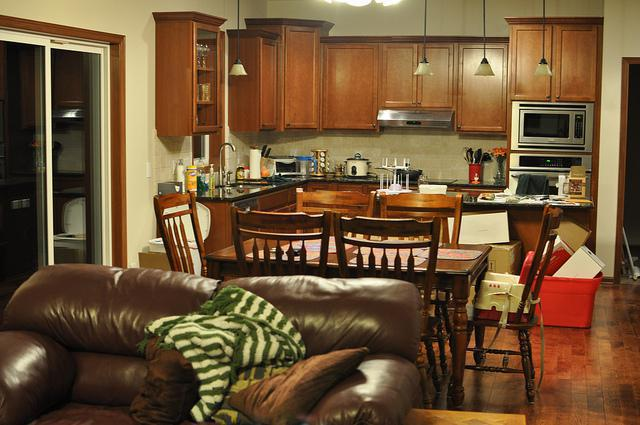Bote de Basura: (149, 203, 209, 296)
Lavaplatos: (200, 139, 272, 195)
